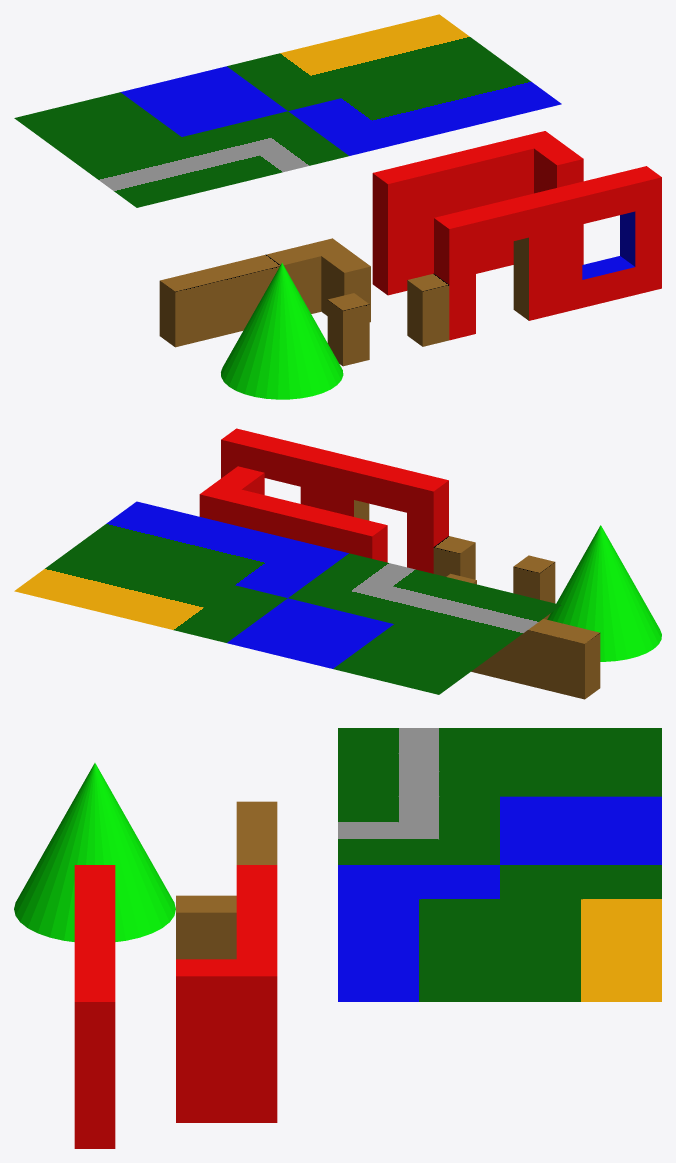
File: sample-mesh-lib.glb
3 views of the same model, one above another, from view 1: azimuth 30°, elevation 25°; view 2: azimuth 150°, elevation 25°; view 3: azimuth 270°, elevation 25° (orthographic). The views are drawn at different scales.
Parts seen in each view (by area): view 1: 15_Wall_Window, 10_Wall_Straight, 14_Wall_Door, 12_Tree, 08_Fence_Straight, 01_Water_O, 00_Grass_O, 03_Floor_Half_O, 06_Water_Corner, 07_Water_Half_O, 04_Road_Straight, 05_Road_Corner_O (+4 smaller); view 2: 12_Tree, 14_Wall_Door, 08_Fence_Straight, 05_Road_Corner_O, 07_Water_Half_O, 01_Water_O, 04_Road_Straight, 02_Floor_Corner_O, 03_Floor_Half_O, 00_Grass_O, 06_Water_Corner, 15_Wall_Window (+3 smaller); view 3: 11_Wall_Corner, 12_Tree, 00_Grass_O, 01_Water_O, 02_Floor_Corner_O, 03_Floor_Half_O, 04_Road_Straight, 05_Road_Corner_O, 06_Water_Corner, 07_Water_Half_O, 15_Wall_Window, 09_Fence_Corner (+3 smaller).
Boxes of the visible parts, x1,y1,x2,y2 form: 15_Wall_Window: (541, 166, 661, 314); 10_Wall_Straight: (372, 147, 494, 295); 14_Wall_Door: (434, 192, 555, 340); 12_Tree: (221, 263, 343, 399); 08_Fence_Straight: (159, 254, 280, 347); 01_Water_O: (120, 66, 287, 136); 00_Grass_O: (14, 92, 181, 162); 03_Floor_Half_O: (333, 14, 500, 84); 06_Water_Corner: (288, 85, 455, 155); 07_Water_Half_O: (394, 59, 561, 129); 04_Road_Straight: (76, 137, 242, 207); 05_Road_Corner_O: (182, 111, 348, 181); 12_Tree: (547, 525, 661, 661); 14_Wall_Door: (327, 454, 448, 573); 08_Fence_Straight: (478, 619, 600, 699); 05_Road_Corner_O: (288, 553, 455, 623); 07_Water_Half_O: (76, 501, 242, 572); 01_Water_O: (227, 598, 393, 668); 04_Road_Straight: (394, 579, 561, 649); 02_Floor_Corner_O: (120, 572, 287, 642); 03_Floor_Half_O: (14, 546, 180, 616); 00_Grass_O: (333, 624, 499, 694); 06_Water_Corner: (182, 527, 348, 597); 15_Wall_Window: (221, 428, 342, 510); 11_Wall_Corner: (176, 933, 277, 1122); 12_Tree: (14, 763, 175, 941); 00_Grass_O: (500, 728, 661, 796); 01_Water_O: (500, 796, 661, 864); 02_Floor_Corner_O: (500, 865, 661, 933); 03_Floor_Half_O: (500, 933, 661, 1001); 04_Road_Straight: (338, 728, 499, 796); 05_Road_Corner_O: (338, 796, 499, 864); 06_Water_Corner: (338, 865, 499, 933); 07_Water_Half_O: (338, 933, 499, 1001); 15_Wall_Window: (74, 933, 115, 1148); 09_Fence_Corner: (176, 895, 236, 959).
Size of the model in its own units: 8 by 2 by 8.
1 material, 1 textured.
